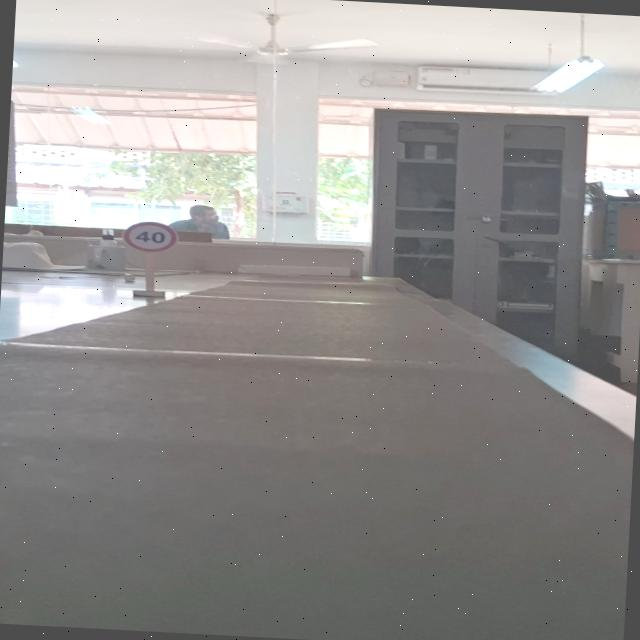Speed40: (120, 219, 180, 256)
